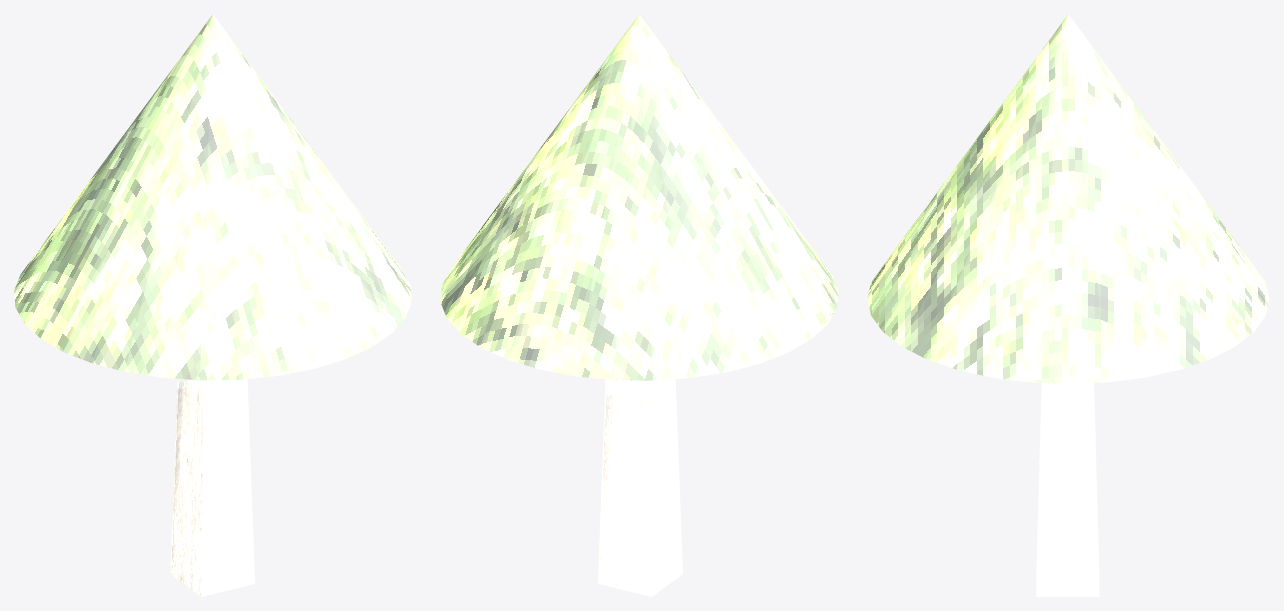
The model's file is tree.glb.
3 views of the same model, side by side, from view 1: azimuth 30°, elevation 25°; view 2: azimuth 150°, elevation 25°; view 3: azimuth 270°, elevation 25° (orthographic).
Parts seen in each view (by area): view 1: Listva, Stvol; view 2: Listva, Stvol; view 3: Listva, Stvol.
Part boxes in pixels (bbox=[...]): Listva: bbox=[14, 14, 411, 380]; Stvol: bbox=[170, 379, 255, 596]; Listva: bbox=[440, 14, 838, 380]; Stvol: bbox=[598, 379, 682, 596]; Listva: bbox=[867, 14, 1269, 383]; Stvol: bbox=[1036, 383, 1099, 596].
Size of the model in its own units: 6.4 by 10 by 6.4.
